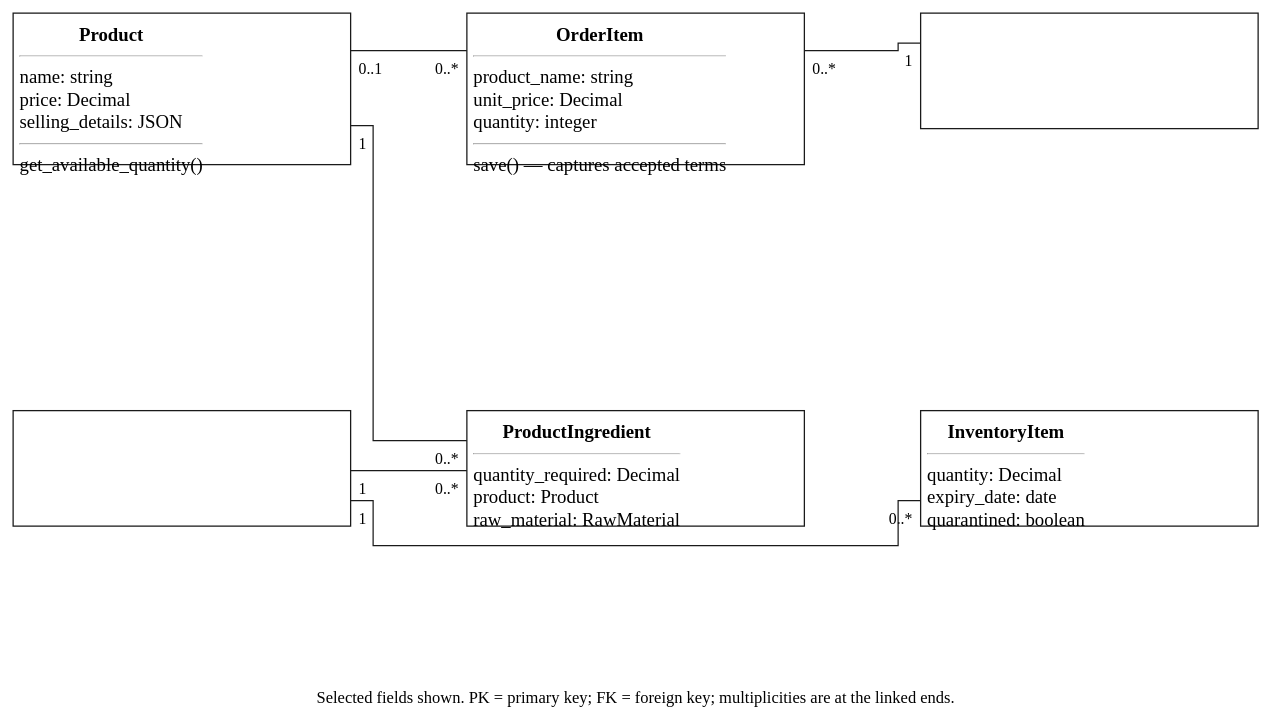
Image size: 1272x721. Some labels were removed from this diagram. Here are the shapes that lost their labels. From the top down, the box of each, then its label:
(920, 12, 1258, 129): Order delivery_at: datetime payment_status: string fulfilment_snapshot: JSON
(12, 410, 351, 526): RawMaterial name: string unit: string storage_guidance: JSON
